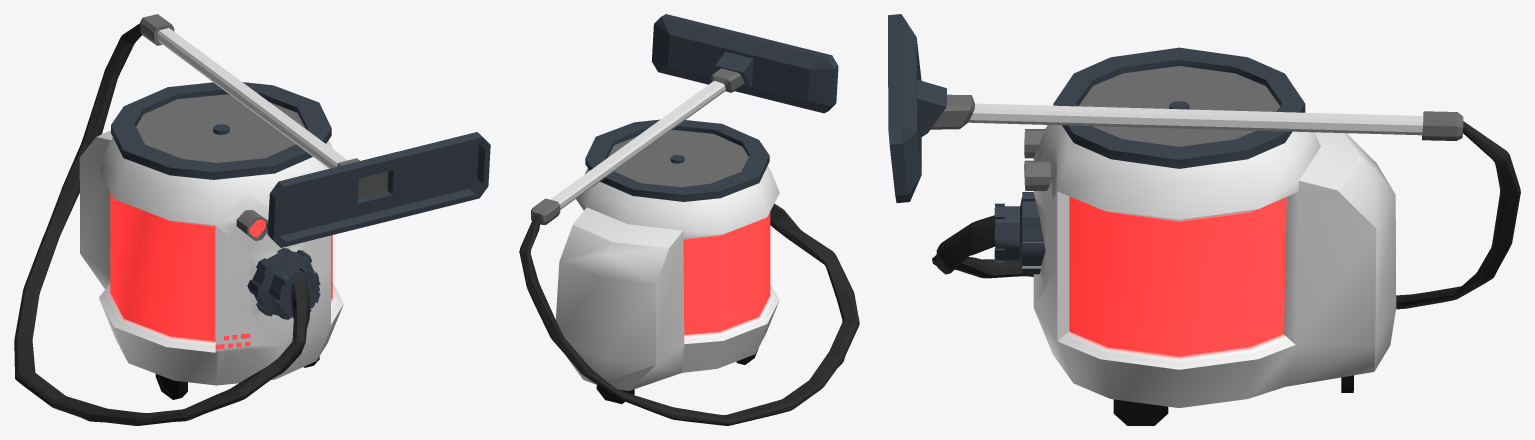
3 views of the same model, side by side, from view 1: azimuth 30°, elevation 25°; view 2: azimuth 150°, elevation 25°; view 3: azimuth 270°, elevation 25° (orthographic). The views are drawn at different scales.
Visible parts, largest first — view 1: Body, Canon, Slurf, Wiel1; view 2: Body, Canon, Slurf; view 3: Body, Canon, Slurf, Wiel2.
Part boxes in pixels (x1,y1,x2,y2): Body: (79, 82, 343, 385); Canon: (140, 14, 490, 247); Slurf: (14, 23, 309, 425); Wiel1: (155, 374, 187, 399); Body: (555, 119, 779, 390); Canon: (531, 14, 838, 224); Slurf: (519, 203, 859, 425); Body: (994, 47, 1396, 408); Canon: (888, 14, 1463, 202); Slurf: (932, 121, 1520, 309); Wiel2: (1113, 399, 1168, 425).
Size of the model in its own units: 7.33 by 6.31 by 10.71.
1 material, 1 textured.
